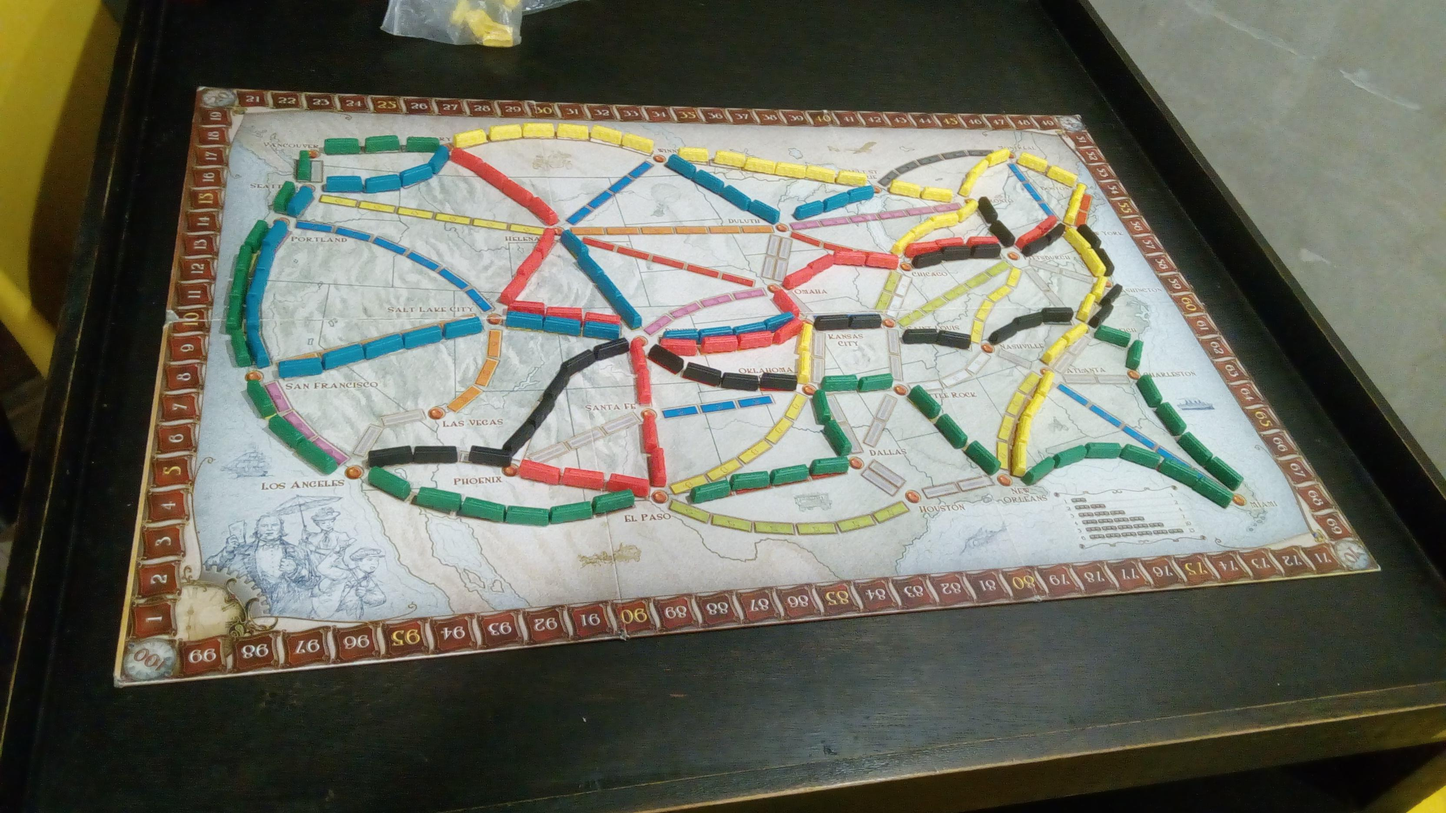corner_bl: (118, 639, 179, 686)
corner_br: (1332, 538, 1380, 572)
corner_tl: (197, 85, 238, 108)
corner_tr: (1056, 113, 1088, 131)
